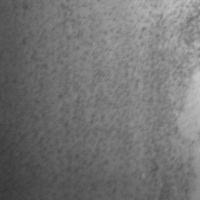pitted_surface: (8, 2, 196, 196)
